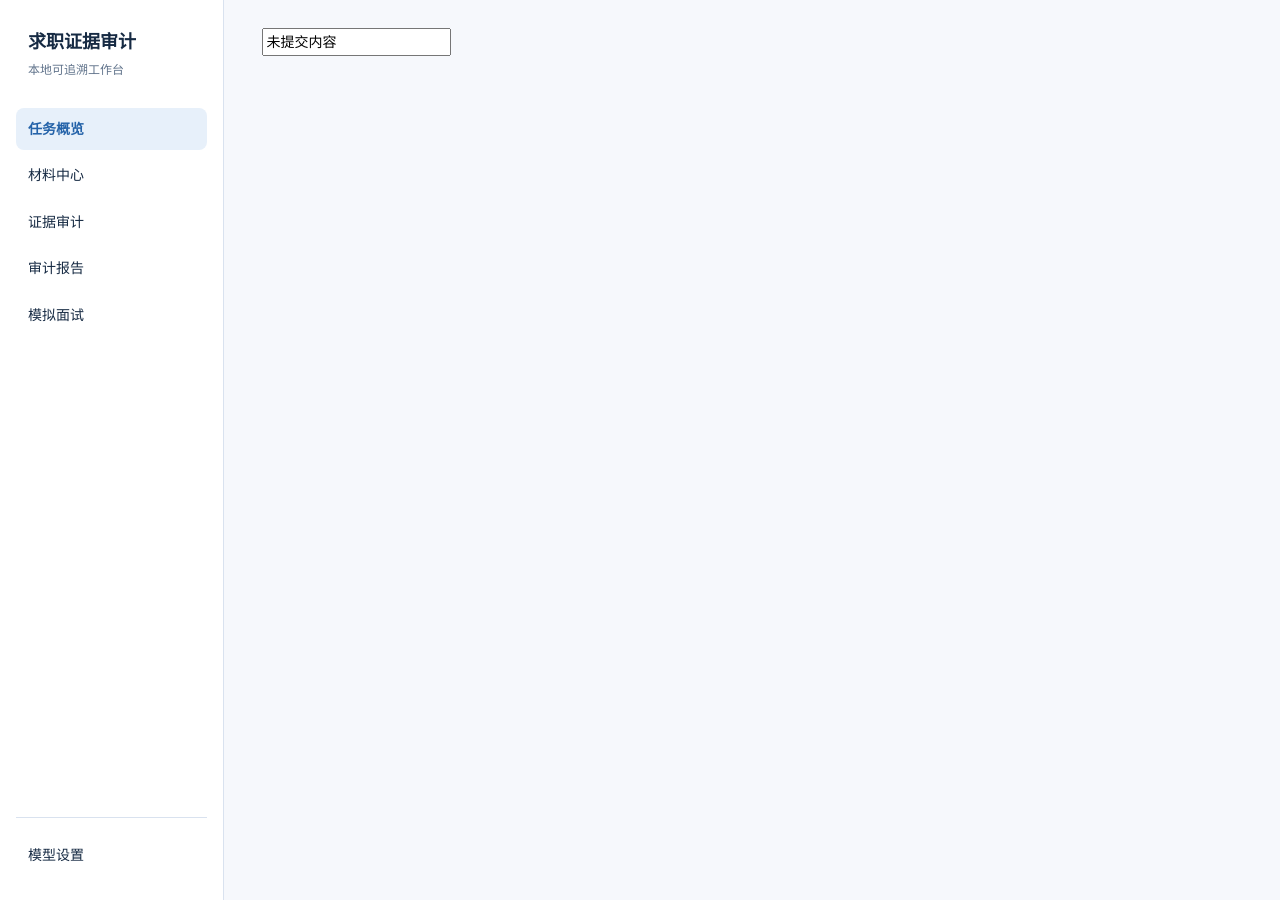
it: 测试连接只请求test接口，不保存，保留当前生效配置与新输入
Click the button "模型设置": (112, 855) [16, 834, 207, 876]
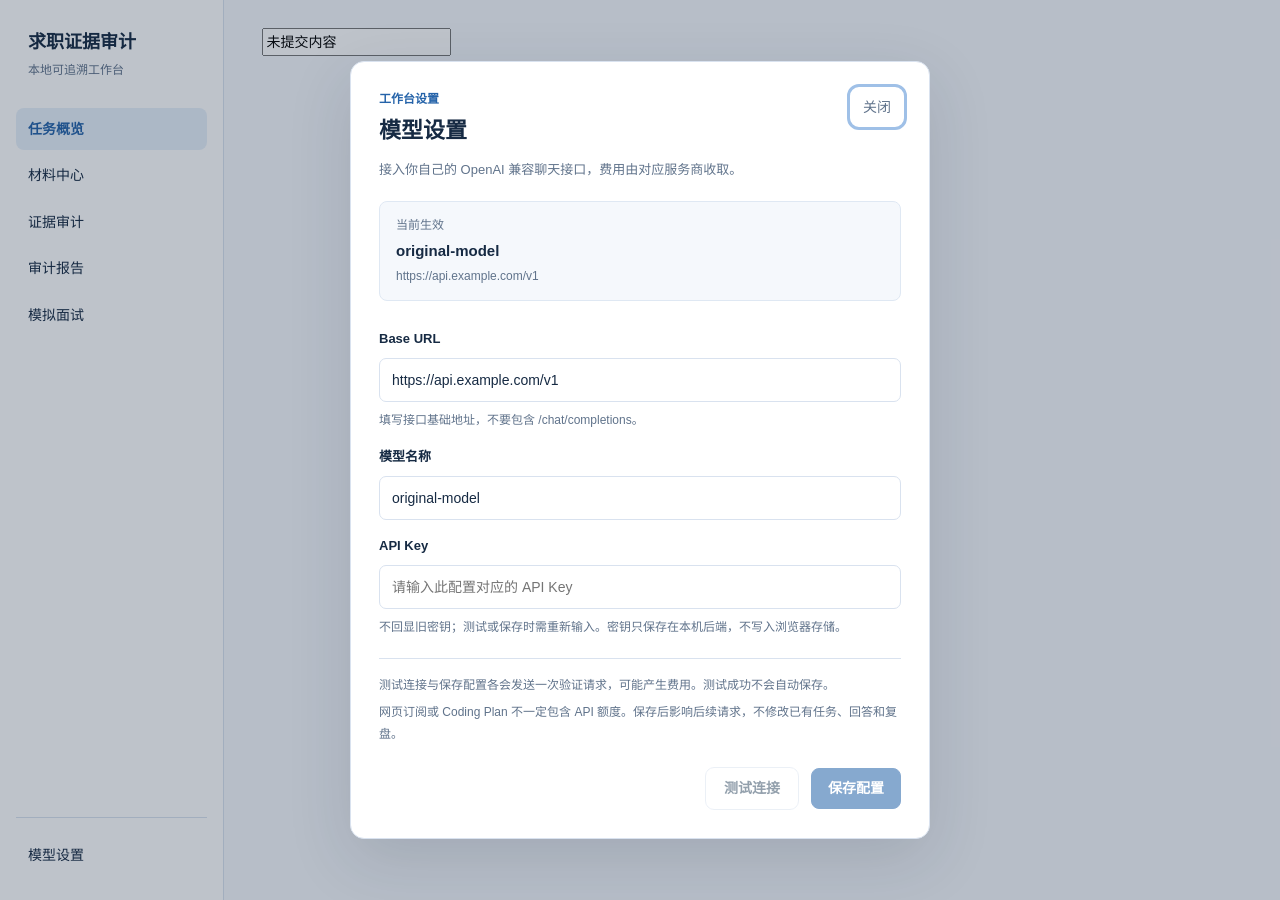
Check: the field showing "https://api.example.com/v1" is shown
In the field labelled "Base URL": (640, 380) [379, 358, 901, 402], type "https://new.example.com/v1"
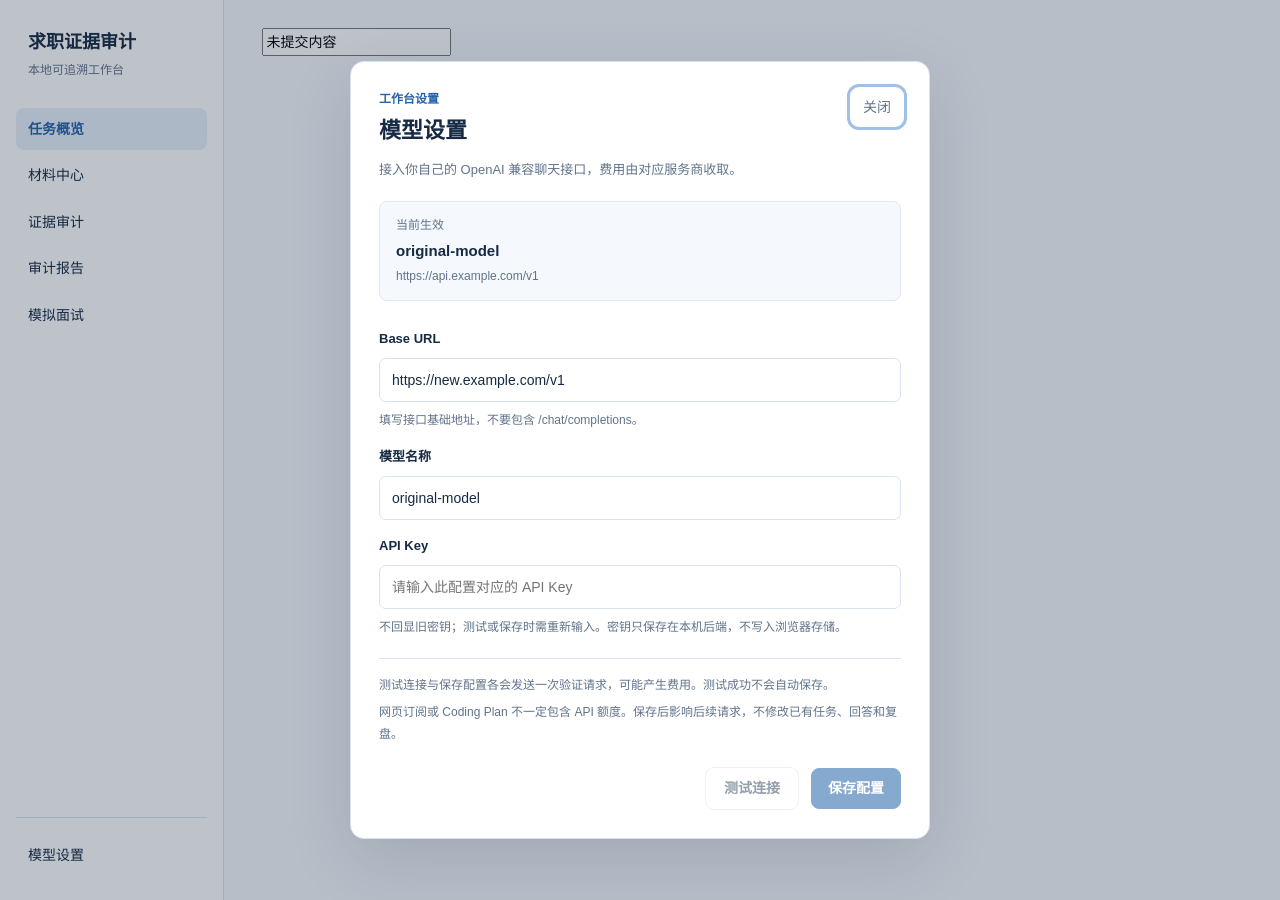
Replace the text in the field labelled "模型名称" with "my-model": (640, 498) [379, 476, 901, 520]
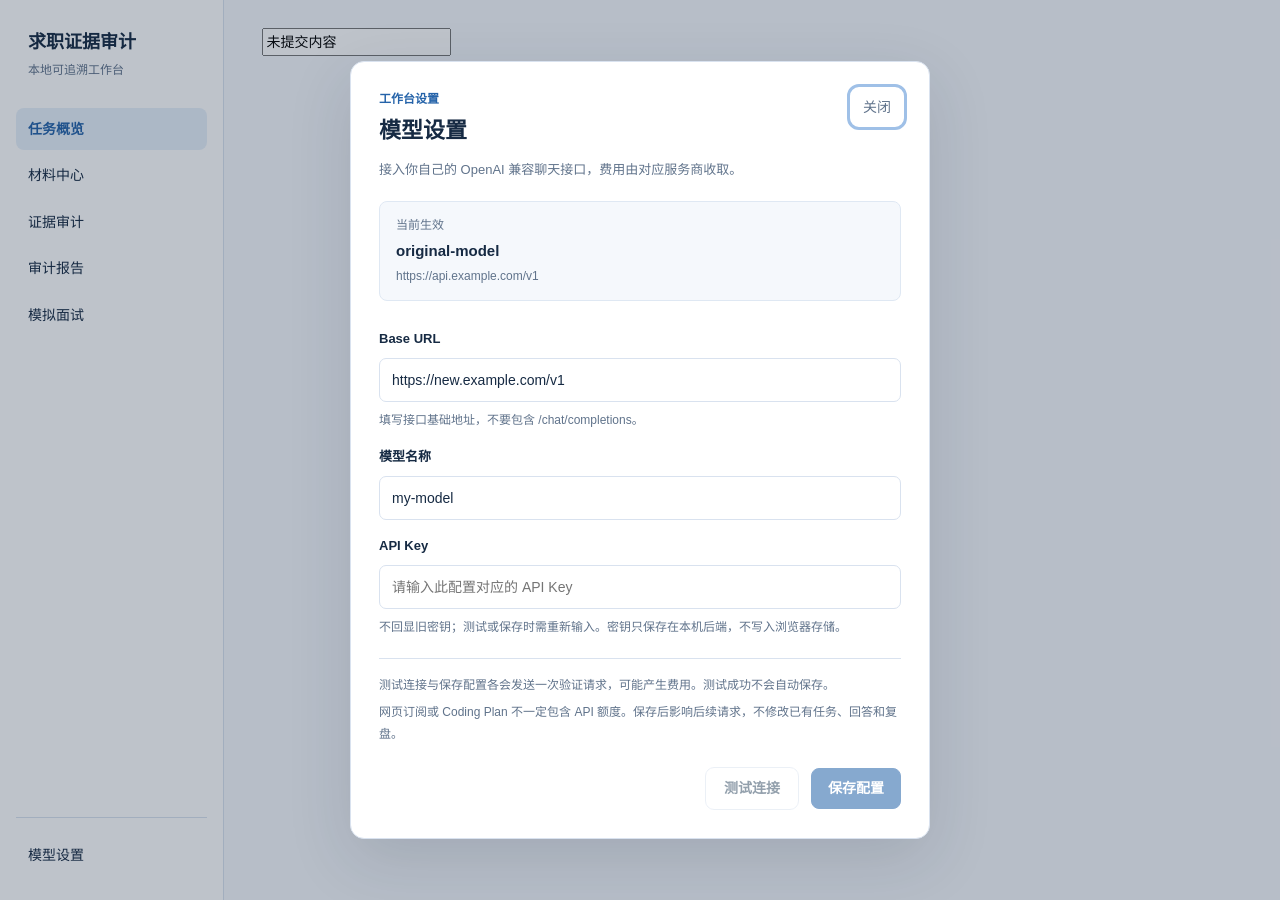
In the password field labelled "API Key": (640, 587) [379, 565, 901, 609], type "fictional-key-not-a-credential"
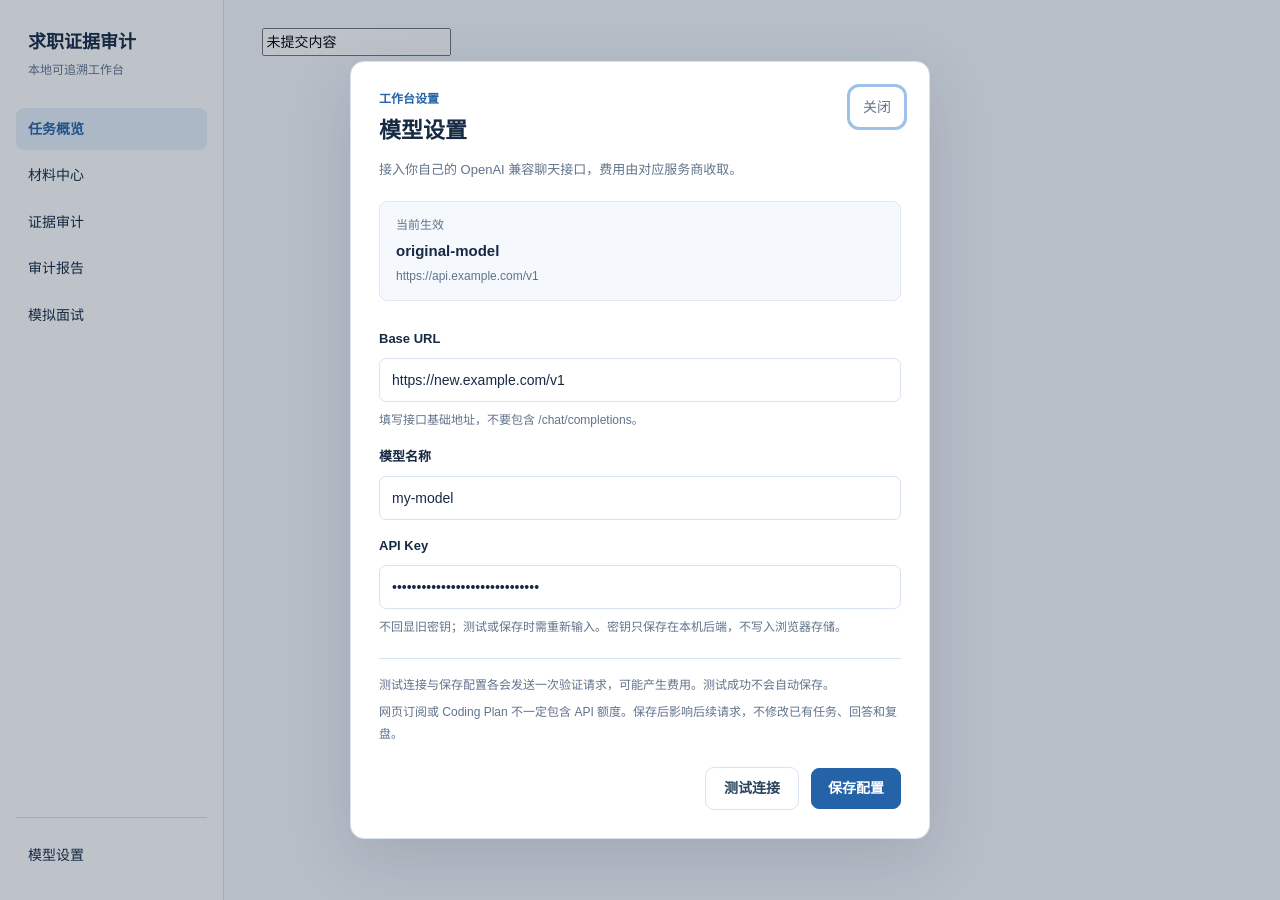
Click the button "测试连接": (752, 789) [705, 767, 799, 810]
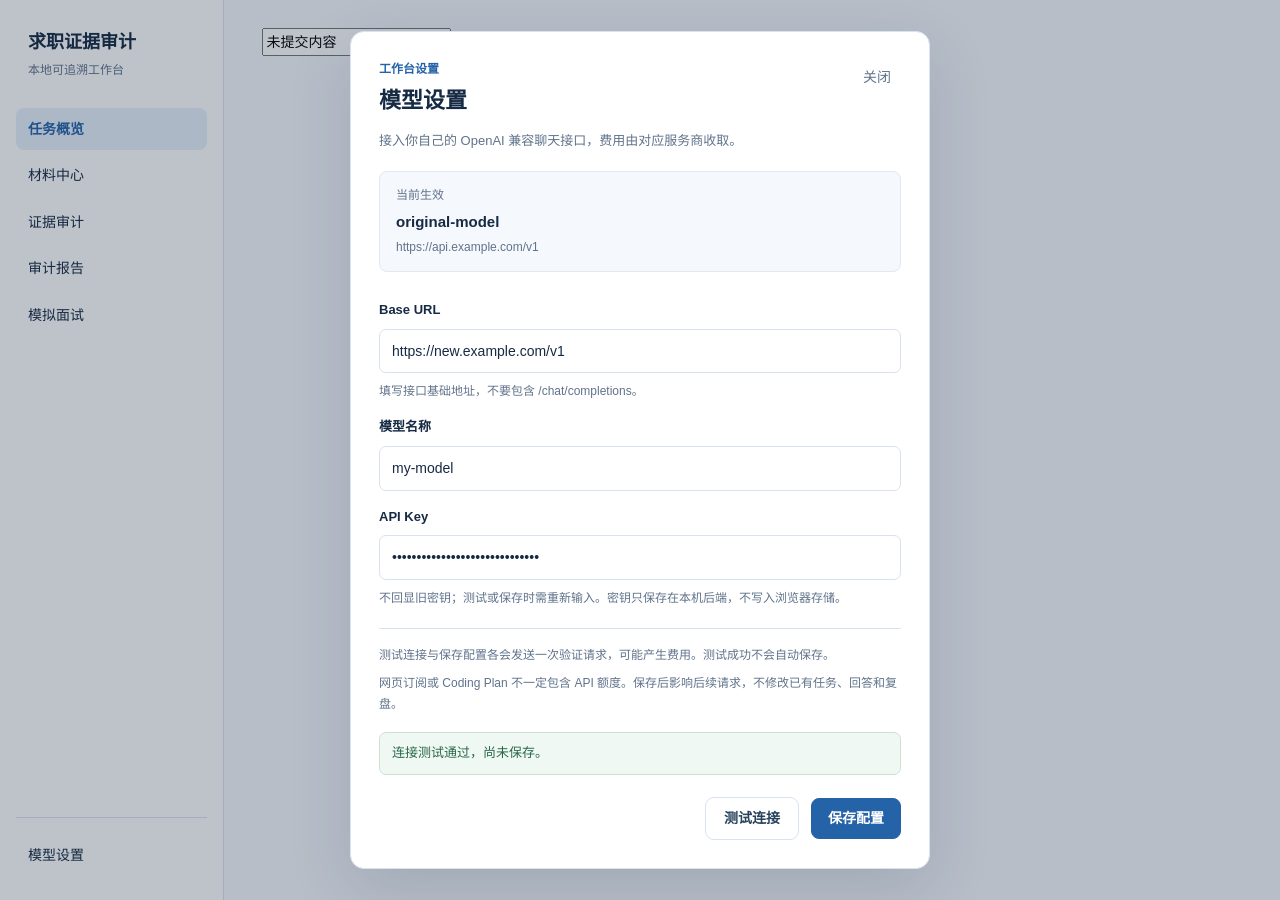
Check: the text "original-model" is shown, box [396, 213, 499, 230]
Check: the message shows "连接测试通过，尚未保存", box [392, 745, 548, 760]
